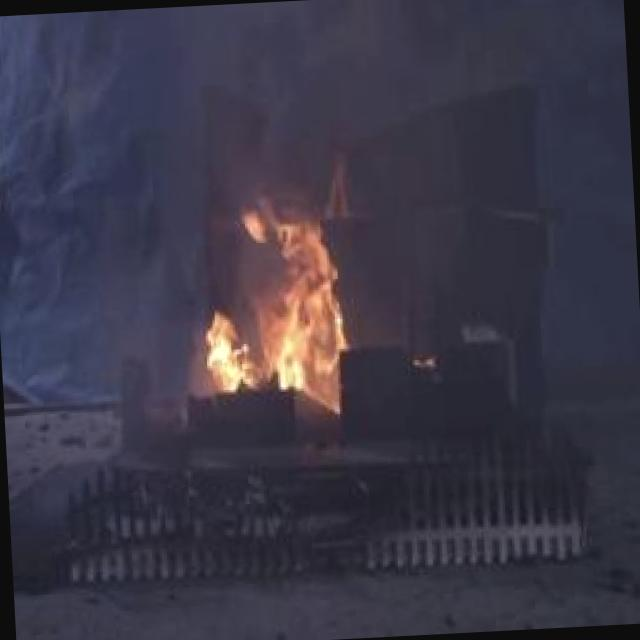fire: (165, 185, 382, 442)
